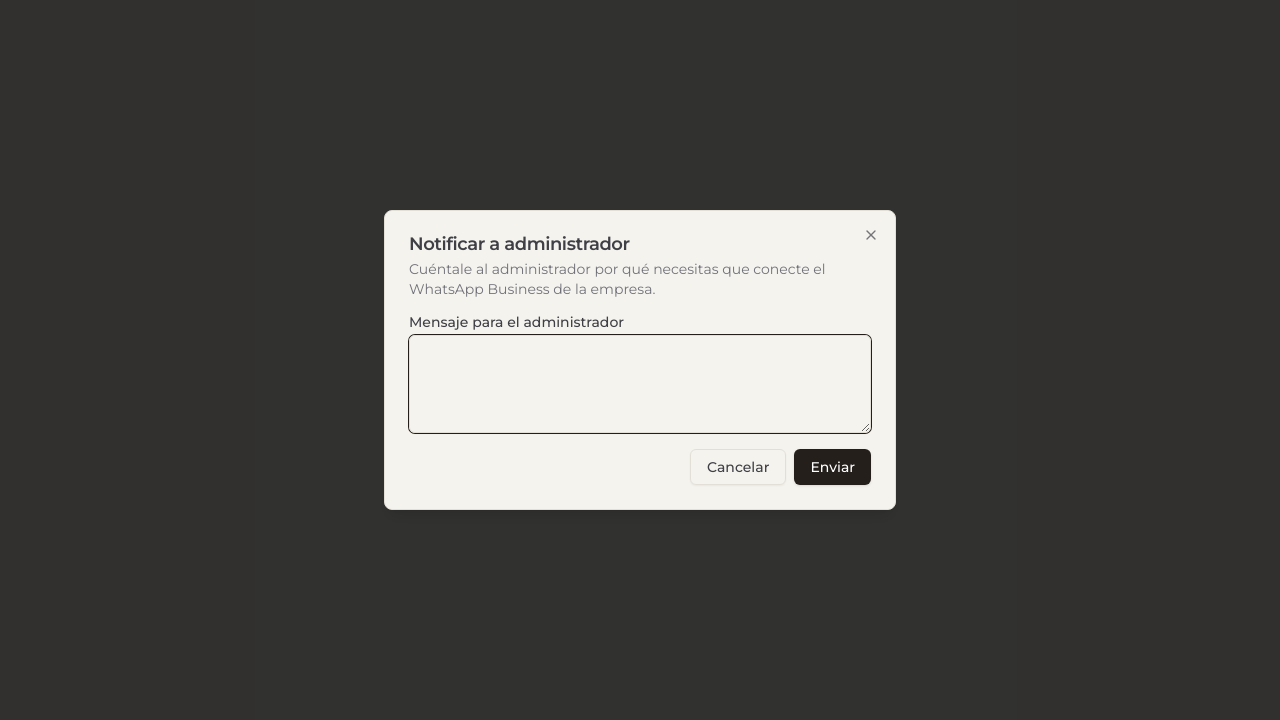
NotificarWhatsAppNoConectadoDialog › bloquea el envío con el mensaje vacío (requerido)
Click the button "Enviar": (833, 467) x1=794 y1=449 x2=871 y2=485
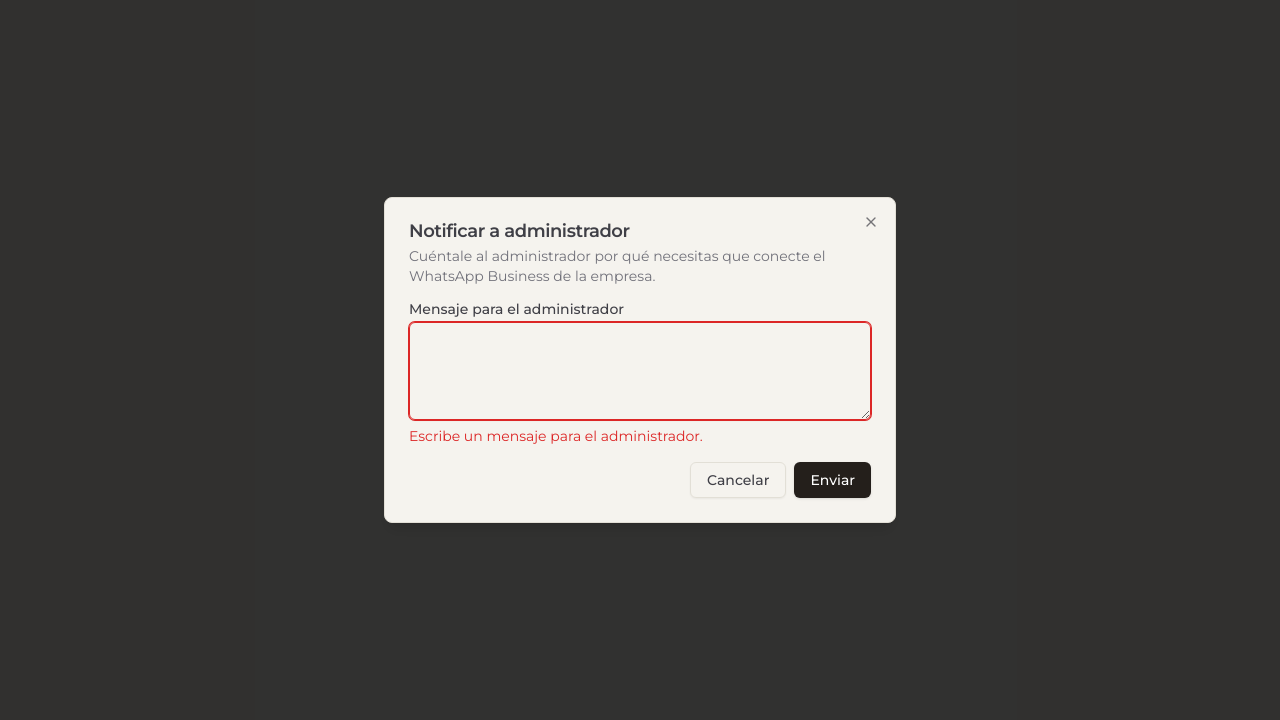
Check: the text "Escribe un mensaje para el administrador." is shown, box x1=409 y1=427 x2=703 y2=445
